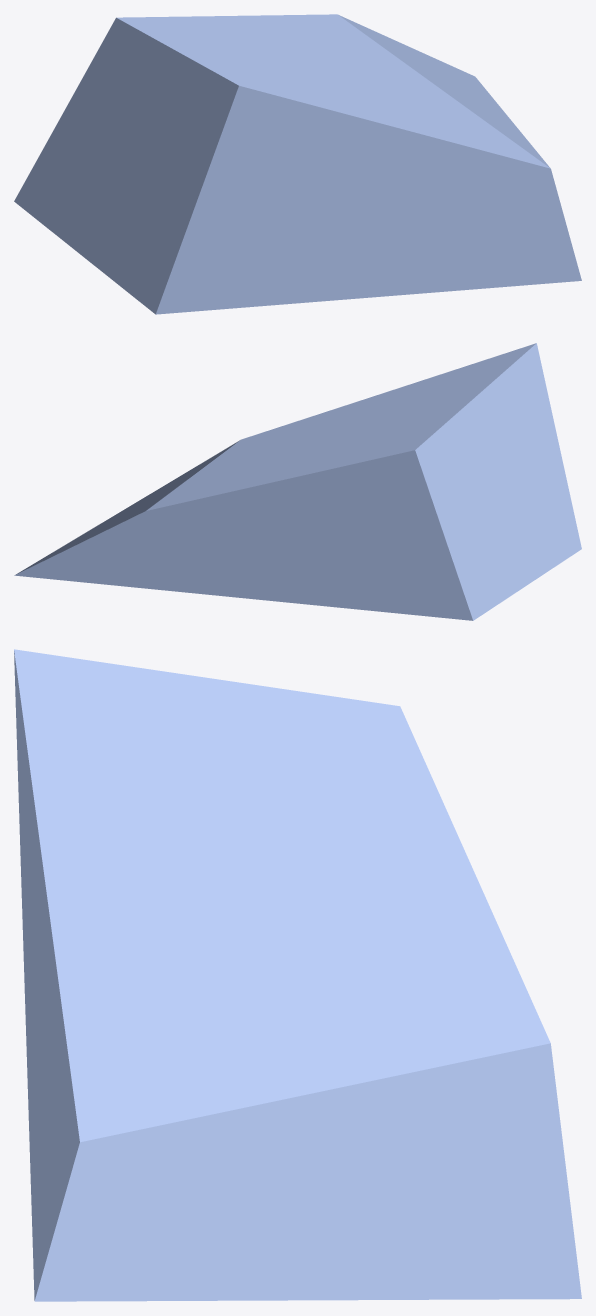
File: Pebble 4.fbx
3 views of the same model, one above another, from view 1: azimuth 30°, elevation 25°; view 2: azimuth 150°, elevation 25°; view 3: azimuth 270°, elevation 25° (orthographic). The views are drawn at different scales.
Visible parts, largest first — view 1: Cube.033; view 2: Cube.033; view 3: Cube.033.
Part boxes in pixels (x1,y1,x2,y2): Cube.033: [14, 14, 581, 314]; Cube.033: [14, 343, 581, 620]; Cube.033: [14, 649, 581, 1301].
Size of the model in its own units: 2.4 by 1.29 by 1.62.
